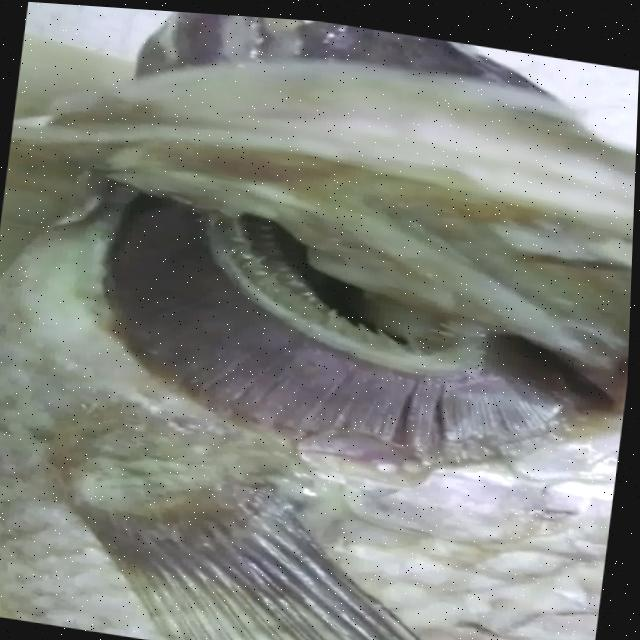Non-Fresh: (53, 170, 618, 498)
